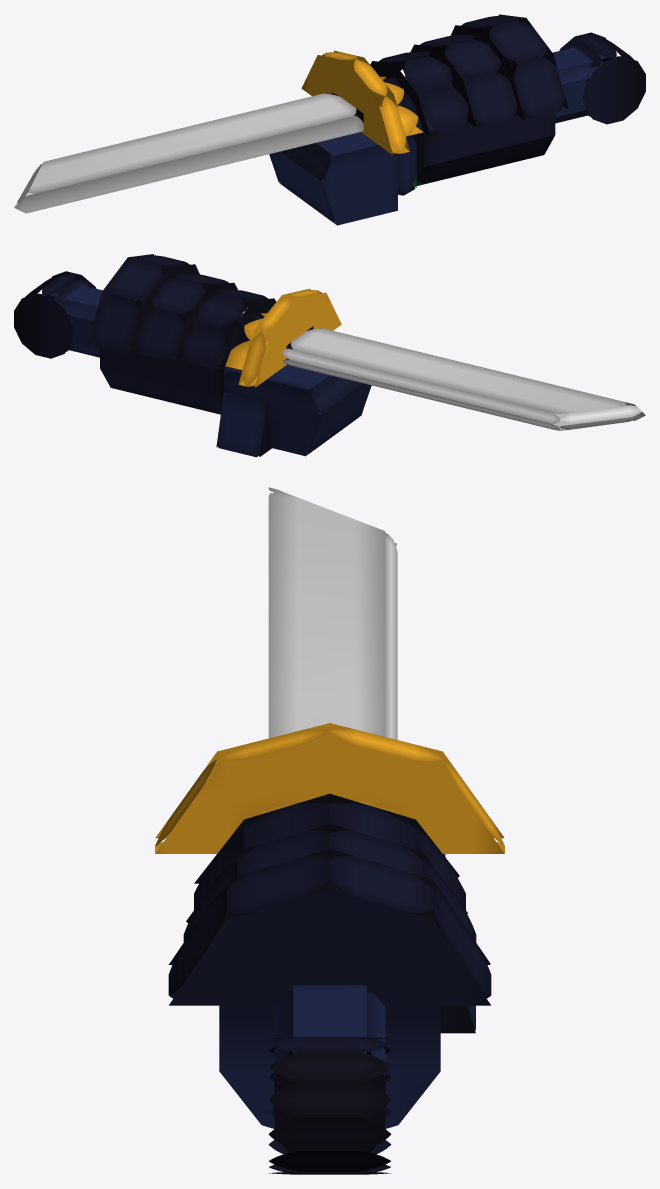
Rendered from ShogunLestArm.obj.
3 views of the same model, one above another, from view 1: azimuth 30°, elevation 25°; view 2: azimuth 150°, elevation 25°; view 3: azimuth 270°, elevation 25° (orthographic). The views are drawn at different scales.
Visible parts, largest first — view 1: cylinder, cuboid, Arm; view 2: cylinder, cuboid, Arm; view 3: cylinder, cuboid, Arm.
Boxes of the visible parts, box(x1,y1,x2,y2) form: cylinder: box(301, 14, 645, 185); cuboid: box(14, 92, 416, 225); Arm: box(510, 47, 613, 123); cylinder: box(14, 254, 341, 414); cuboid: box(216, 326, 645, 457); Arm: box(45, 285, 142, 357); cylinder: box(155, 723, 504, 1174); cuboid: box(268, 487, 475, 1033); Arm: box(274, 985, 385, 1152).
Size of the model in its own units: 1.41 by 0.2986 by 0.3559.
1 material, 1 textured.
